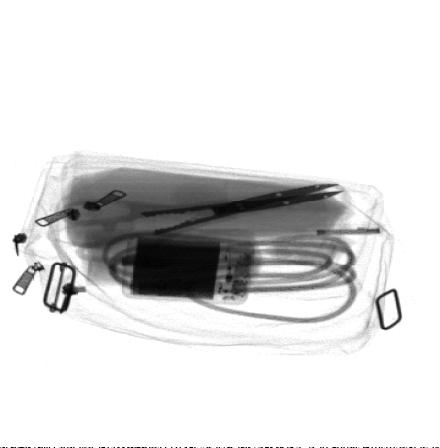Powerbank: (120, 225, 262, 306)
Scissors: (51, 179, 349, 263)
